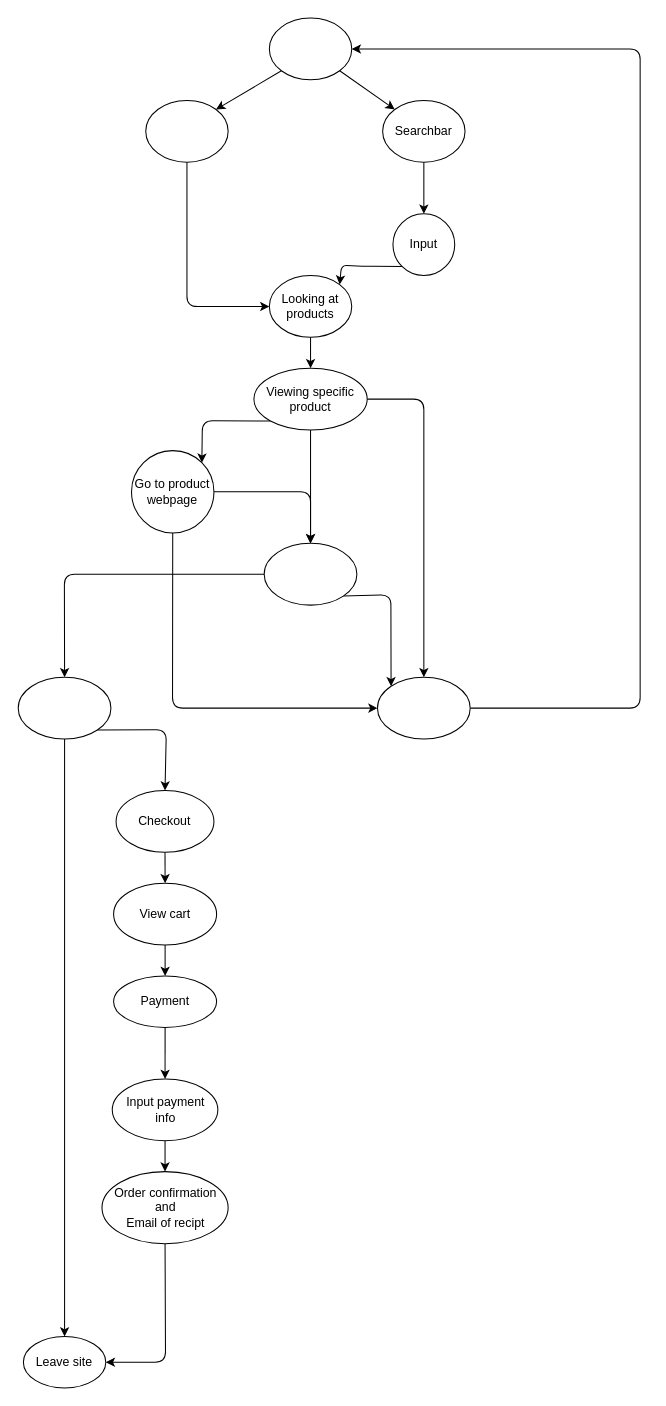
This 666x1406 diagram has some shape labels left out. The centre of each missing label's shape, as x and y in pixels:
Confrimation to add to cart: point 310,573
Continue shopping: point 423,707
Homepage: point 186,130
Start: point 310,48
Stop shopping: point 64,707
